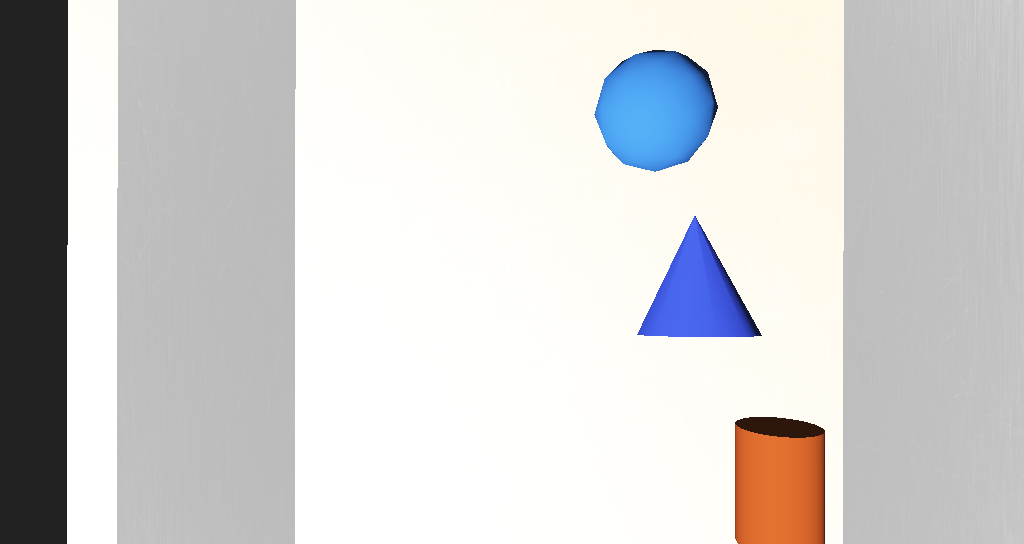cone: (596, 324, 643, 372)
cylinder: (542, 243, 603, 291)
sphere: (522, 188, 583, 231)
